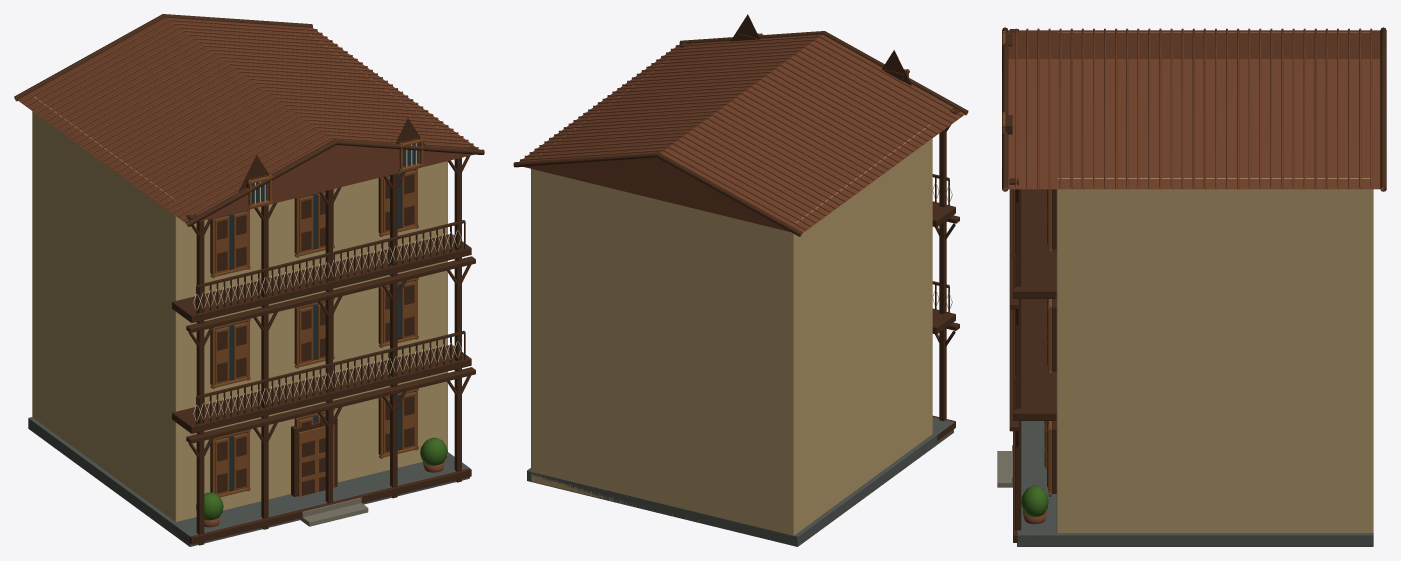
The model's file is timber-wada.glb.
3 views of the same model, side by side, from view 1: azimuth 30°, elevation 25°; view 2: azimuth 150°, elevation 25°; view 3: azimuth 270°, elevation 25° (orthographic). The views are drawn at different scales.
Parts seen in each view (by area): view 1: Surface_Lime_plaster, Surface_Roof_tiles, Surface_Timber, Surface_Painted_joinery, Surface_Basalt, Surface_Trim, Surface_Recessed_glazing, Surface_Foliage, Surface_Stone_paving; view 2: Surface_Lime_plaster, Surface_Roof_tiles, Surface_Timber, Surface_Basalt; view 3: Surface_Lime_plaster, Surface_Roof_tiles, Surface_Timber, Surface_Basalt, Surface_Painted_joinery, Surface_Foliage, Surface_Stone_paving.
Boxes of the visible parts, x1,y1,x2,y2 form: Surface_Lime_plaster: [32, 30, 447, 521]; Surface_Roof_tiles: [16, 17, 478, 527]; Surface_Timber: [14, 14, 484, 545]; Surface_Painted_joinery: [210, 138, 424, 497]; Surface_Basalt: [28, 417, 469, 546]; Surface_Trim: [193, 143, 461, 421]; Surface_Recessed_glazing: [215, 143, 418, 490]; Surface_Foliage: [196, 437, 447, 520]; Surface_Stone_paving: [300, 497, 368, 526]; Surface_Lime_plaster: [531, 61, 932, 535]; Surface_Roof_tiles: [519, 34, 967, 234]; Surface_Timber: [513, 14, 968, 440]; Surface_Basalt: [527, 417, 953, 546]; Surface_Lime_plaster: [1056, 32, 1373, 532]; Surface_Roof_tiles: [1004, 28, 1383, 524]; Surface_Timber: [1002, 27, 1386, 542]; Surface_Basalt: [1017, 421, 1373, 546]; Surface_Painted_joinery: [1002, 31, 1051, 496]; Surface_Foliage: [1021, 485, 1048, 516]; Surface_Stone_paving: [997, 445, 1012, 487].
Size of the model in its own units: 9.55 by 11.62 by 9.83.
